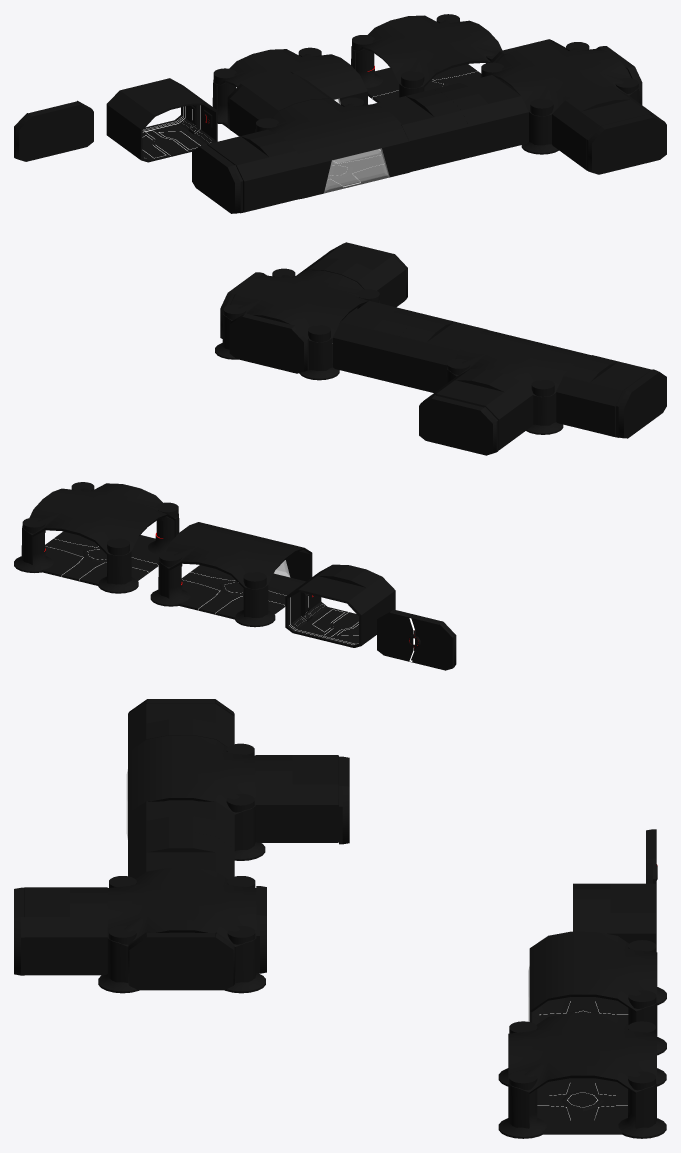
File: sf_hallway.glb
The picture shows the model from 3 angles, top to bottom: view 1: azimuth 30°, elevation 25°; view 2: azimuth 150°, elevation 25°; view 3: azimuth 270°, elevation 25°; orthographic projection. The views are drawn at different scales.
Visible parts, largest first — view 1: T002, plus, plus002, hallway_black_0, T, hallway003_black_0, hallway004_black_0, hallway005_black_0, hallway006_black_0, door_black_0, door004_black_0, hallway002_black_0 (+6 smaller); view 2: plus, T, plus002, hallway_black_0, T002, hallway003_black_0, hallway005_black_0, hallway004_black_0, hallway002_black_0, door_black_0, door006_black_0, door002_black_0 (+2 smaller); view 3: plus, plus002, T, T002, hallway006_black_0, hallway002_black_0, door005_black_0, hallway_black_0, hallway005_black_0, hallway004_black_0, hallway003_black_0, door002_black_0 (+2 smaller).
Part boxes in pixels (<box>): T002: <box>255,97,409,199</box>; plus: <box>351,14,502,102</box>; plus002: <box>480,42,639,154</box>; hallway_black_0: <box>106,78,217,162</box>; T: <box>212,47,367,128</box>; hallway003_black_0: <box>207,129,303,213</box>; hallway004_black_0: <box>373,89,469,172</box>; hallway005_black_0: <box>433,75,528,157</box>; hallway006_black_0: <box>552,88,660,170</box>; door_black_0: <box>14,100,93,161</box>; door004_black_0: <box>587,113,666,174</box>; hallway002_black_0: <box>230,73,339,136</box>; plus: <box>14,482,179,593</box>; T: <box>150,522,312,627</box>; plus002: <box>215,268,379,380</box>; hallway_black_0: <box>285,564,395,647</box>; T002: <box>446,330,590,434</box>; hallway003_black_0: <box>556,355,651,437</box>; hallway005_black_0: <box>333,300,427,382</box>; hallway004_black_0: <box>392,315,487,392</box>; hallway002_black_0: <box>423,369,533,450</box>; door_black_0: <box>377,610,456,670</box>; door006_black_0: <box>229,313,308,373</box>; door002_black_0: <box>419,395,498,455</box>; plus: <box>498,1013,666,1138</box>; plus002: <box>98,867,265,993</box>; T: <box>529,931,666,1055</box>; T002: <box>128,735,265,860</box>; hallway006_black_0: <box>24,887,107,975</box>; hallway002_black_0: <box>255,755,338,842</box>; door005_black_0: <box>128,932,234,990</box>; hallway_black_0: <box>573,883,656,951</box>; hallway005_black_0: <box>128,832,234,879</box>; hallway004_black_0: <box>128,801,234,848</box>; hallway003_black_0: <box>128,704,234,751</box>; door002_black_0: <box>339,756,349,844</box>.
Bounding box in the file's own units: 1214 × 396 × 1275.
Materials: 4 (4 with a texture image).
